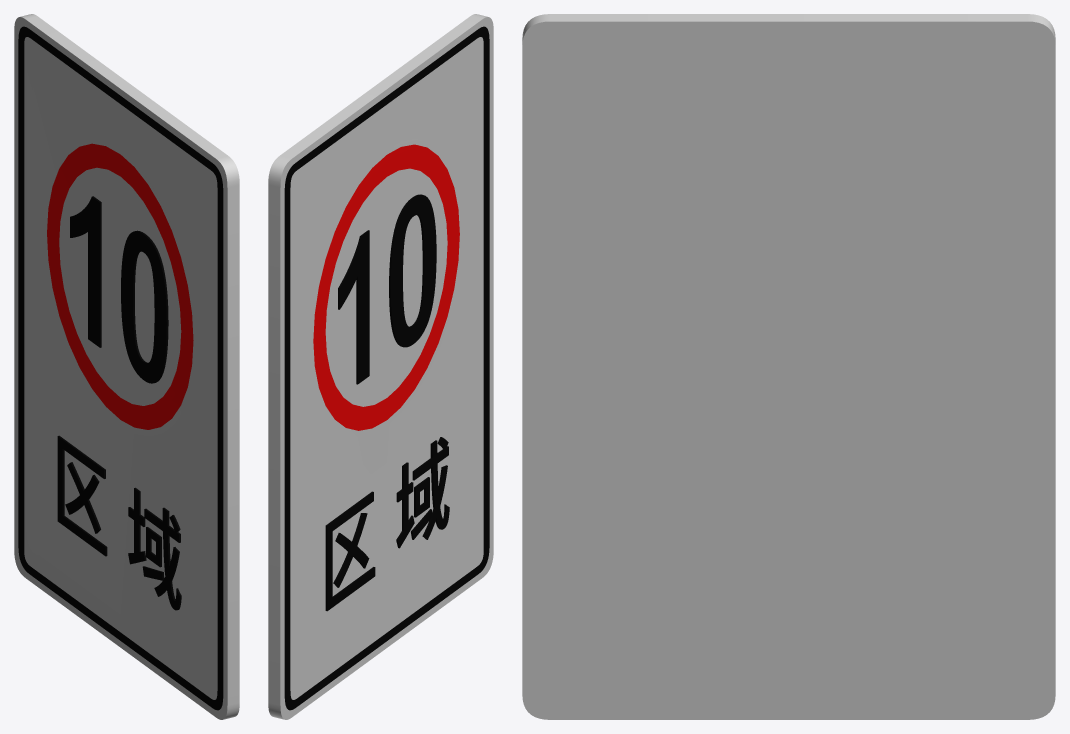
The model's file is Regional_Speed_Limit_10.fbx.
3 views of the same model, side by side, from view 1: azimuth 30°, elevation 25°; view 2: azimuth 150°, elevation 25°; view 3: azimuth 270°, elevation 25° (orthographic). The views are drawn at different scales.
Visible parts, largest first — view 1: Regional_Speed_Limit_10; view 2: Regional_Speed_Limit_10; view 3: Regional_Speed_Limit_10.
Part boxes in pixels (bbox=[...]): Regional_Speed_Limit_10: bbox=[14, 14, 239, 719]; Regional_Speed_Limit_10: bbox=[268, 14, 493, 719]; Regional_Speed_Limit_10: bbox=[522, 14, 1055, 719].
Bounding box in the file's own units: 0.0342 × 1.3 × 0.9.
